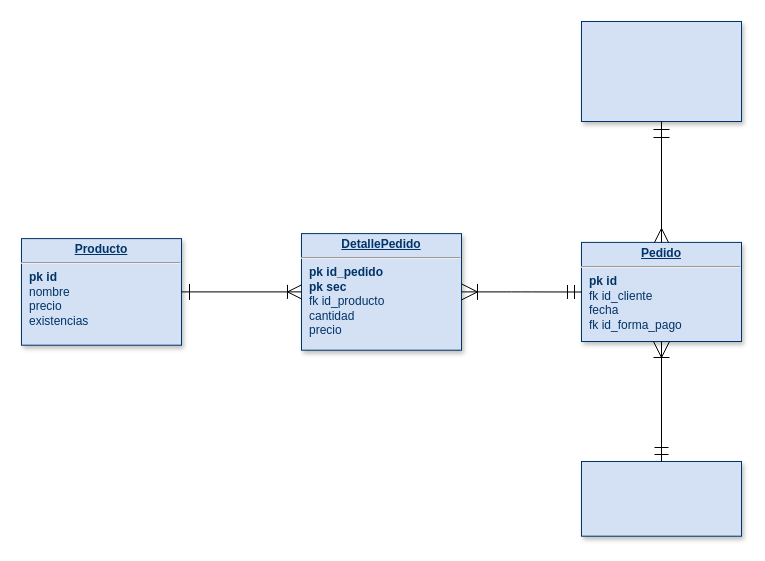
This 765x561 diagram has some shape labels left out. The centre of each missing label's shape, as x and y in pixels:
Cliente pk id nombre apellidos telefono: (662,72)
FormaDePago pk id nombre: (662,499)
